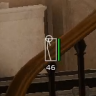hacks_1: (44, 34, 61, 72)
